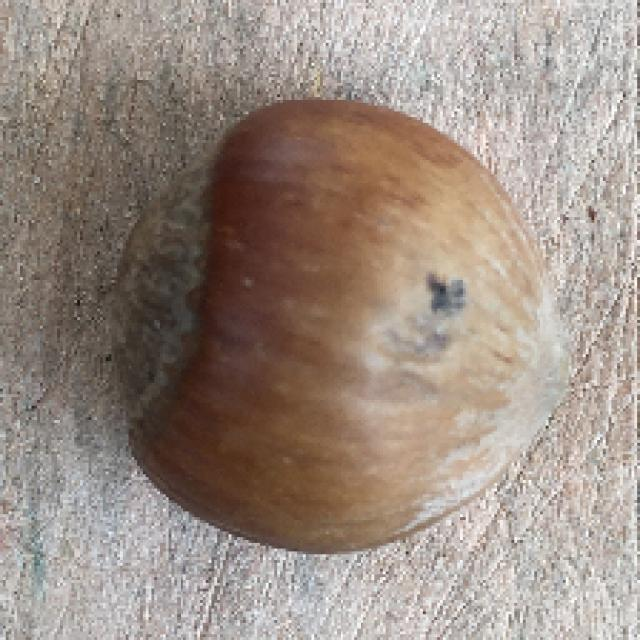qualityHazelnut: (110, 91, 570, 557)
